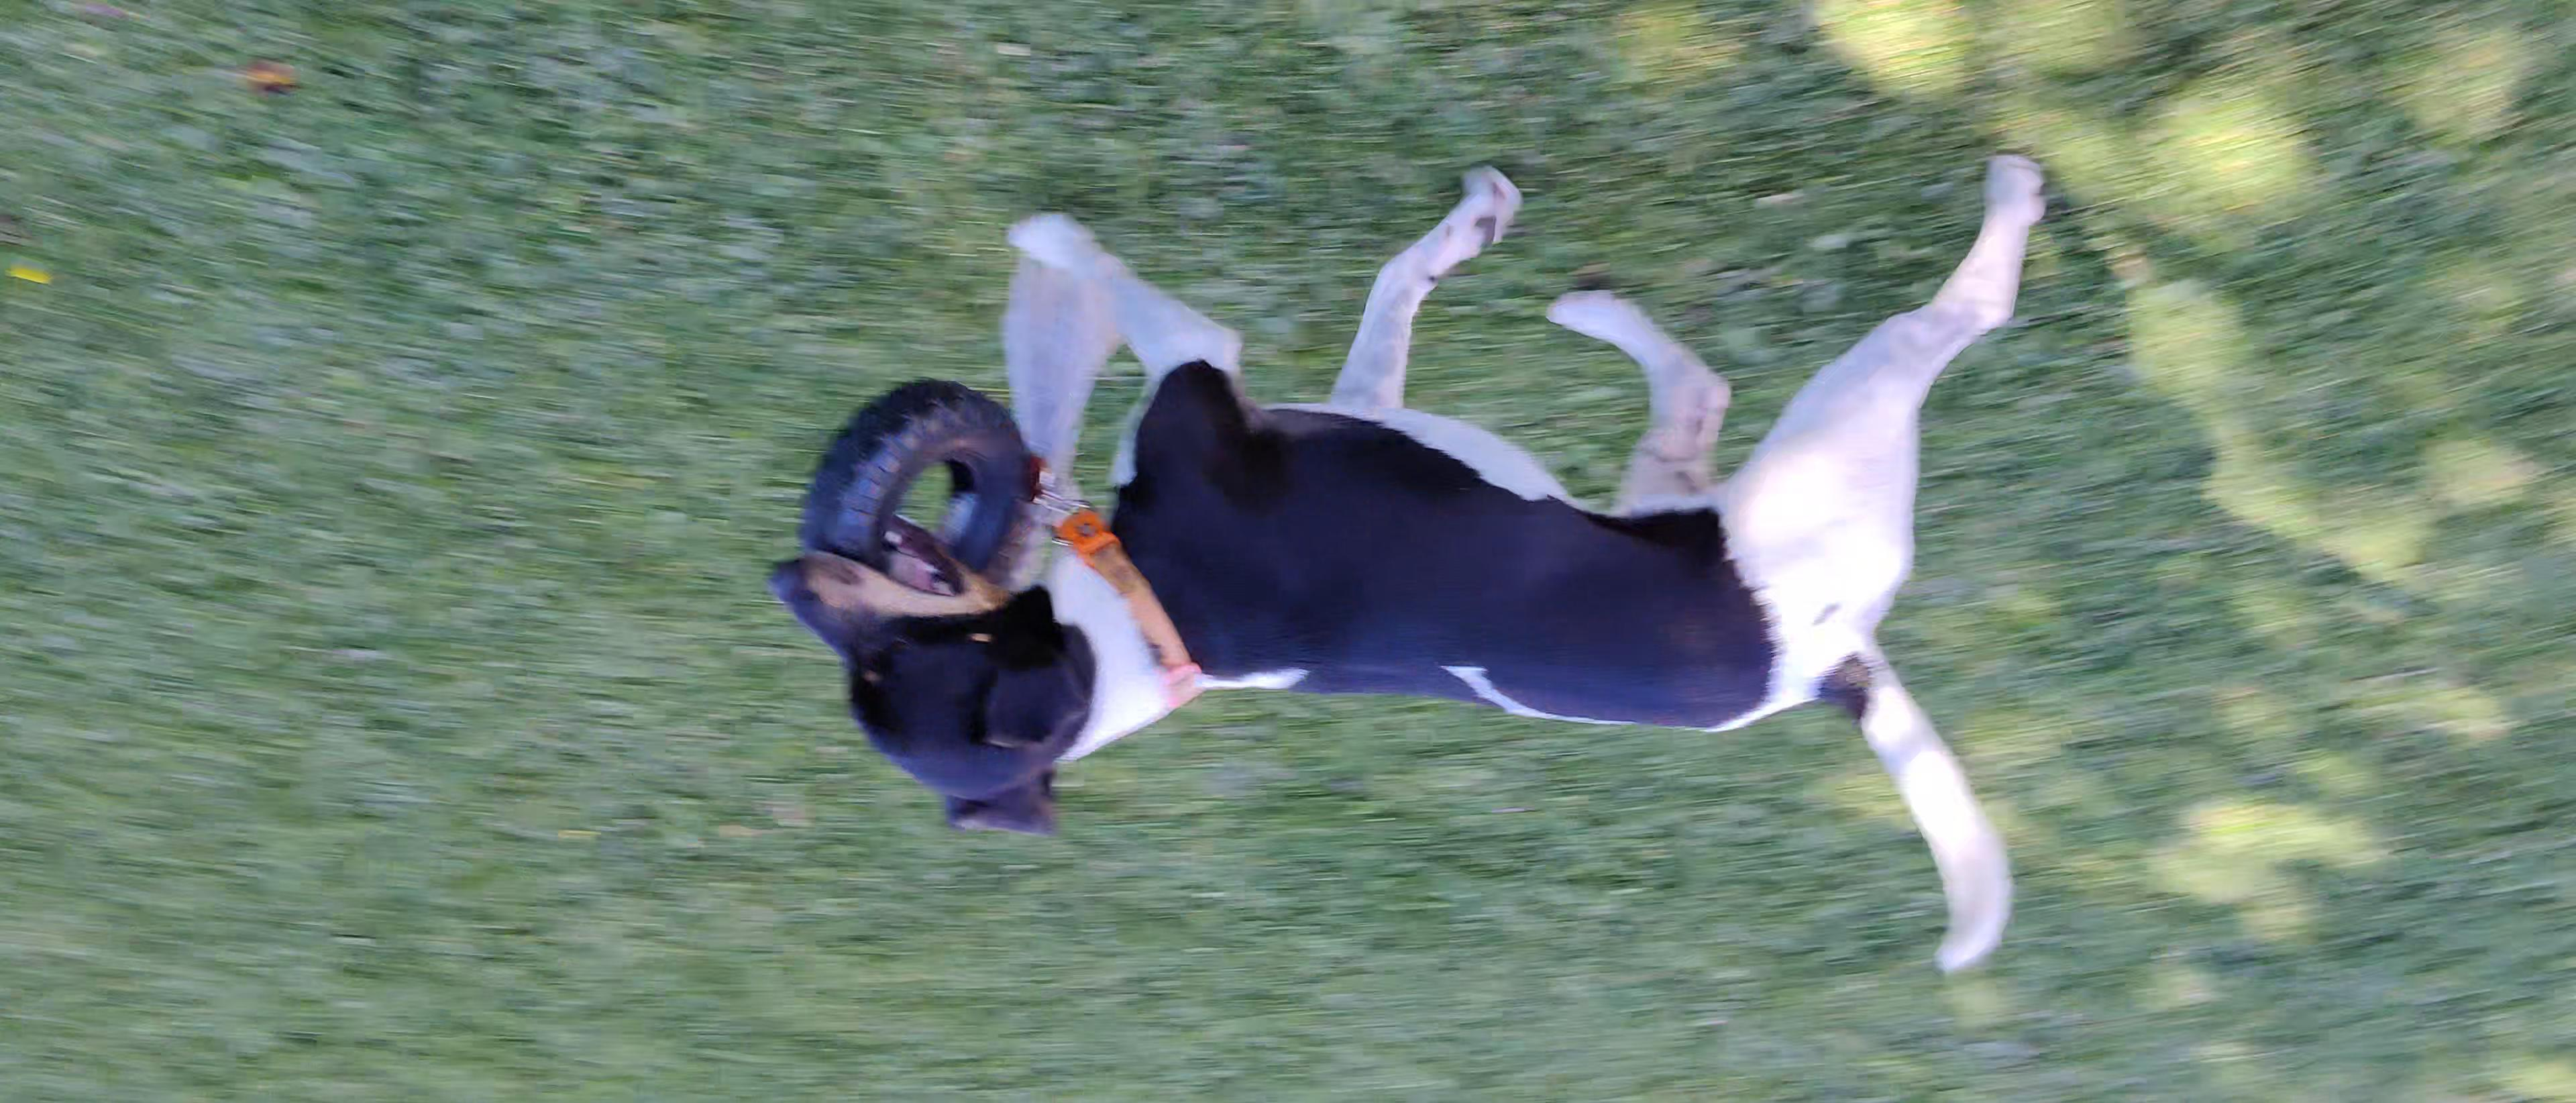Dog: (733, 133, 2063, 993)
